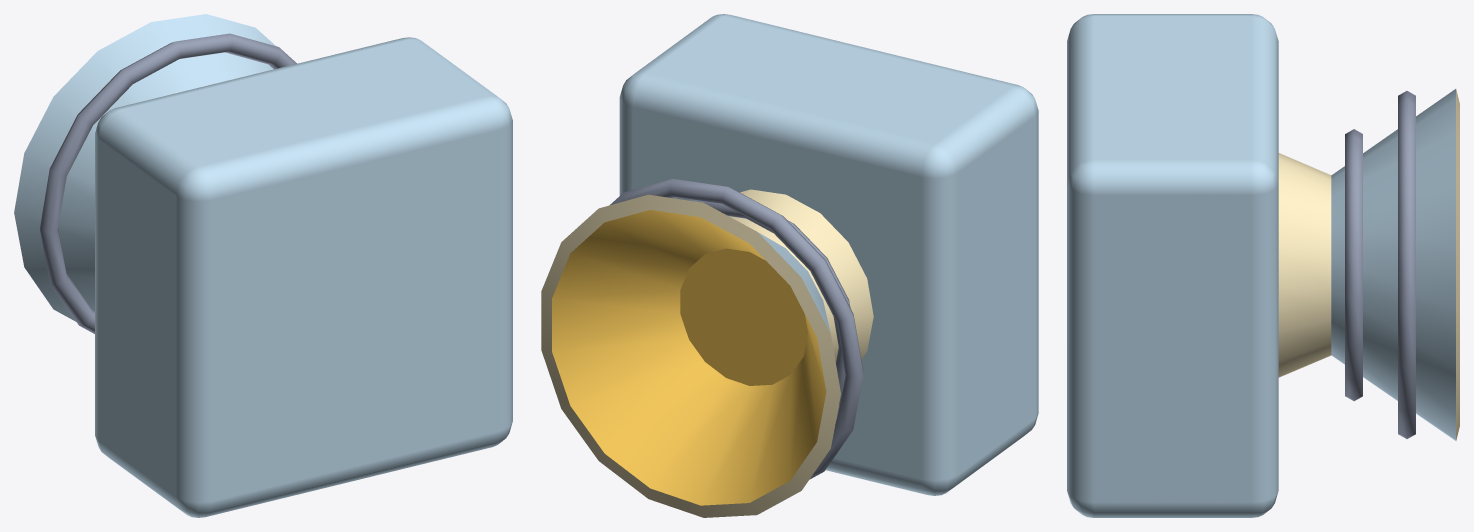
File: R4X_Booster.glb
3 renders of one model, left to right at view 1: azimuth 30°, elevation 25°; view 2: azimuth 150°, elevation 25°; view 3: azimuth 270°, elevation 25°, orthographic.
Visible parts, largest first — view 1: R4X_Booster_Body; view 2: R4X_Booster_Body; view 3: R4X_Booster_Body.
Part boxes in pixels (box(x1,y1,x2,y2)): R4X_Booster_Body: box(14, 14, 512, 517); R4X_Booster_Body: box(541, 14, 1038, 517); R4X_Booster_Body: box(1067, 14, 1459, 517).
Bounding box in the file's own units: 0.52 × 0.52 × 0.52.
